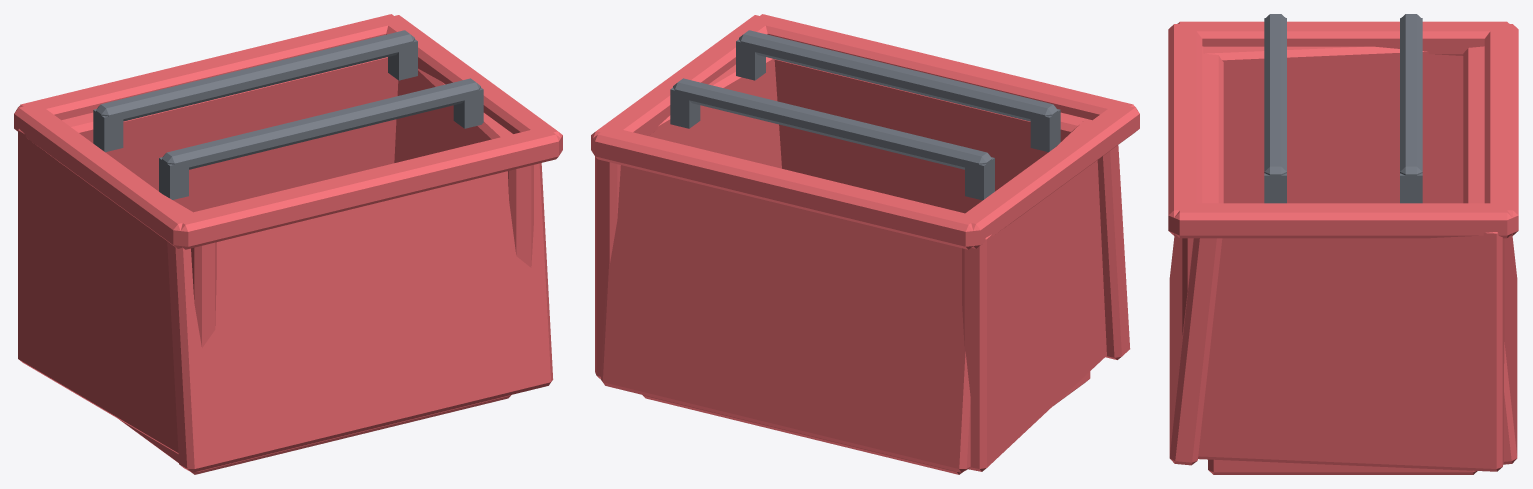
Rendered from keranjang_belanja.fbx.
The picture shows the model from 3 angles, left to right: view 1: azimuth 30°, elevation 25°; view 2: azimuth 150°, elevation 25°; view 3: azimuth 270°, elevation 25°; orthographic projection. The views are drawn at different scales.
Visible parts, largest first — view 1: keranjang_belanja; view 2: keranjang_belanja; view 3: keranjang_belanja.
Part boxes in pixels (box(x1,y1,x2,y2)): keranjang_belanja: box(14, 14, 562, 474); keranjang_belanja: box(591, 14, 1139, 474); keranjang_belanja: box(1168, 14, 1518, 474).
Size of the model in its own units: 165 by 120 by 124.
Materials: 1 (1 with a texture image).
